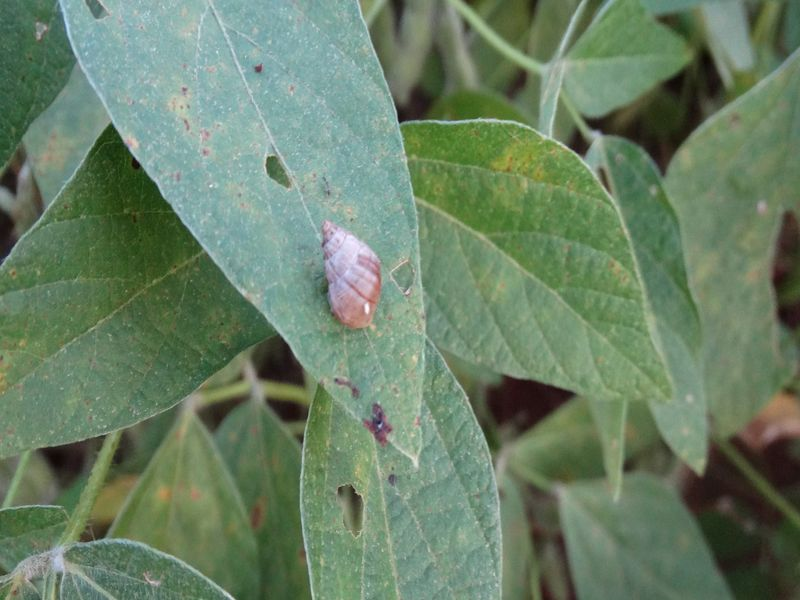Gastropoda: (294, 216, 401, 338)
